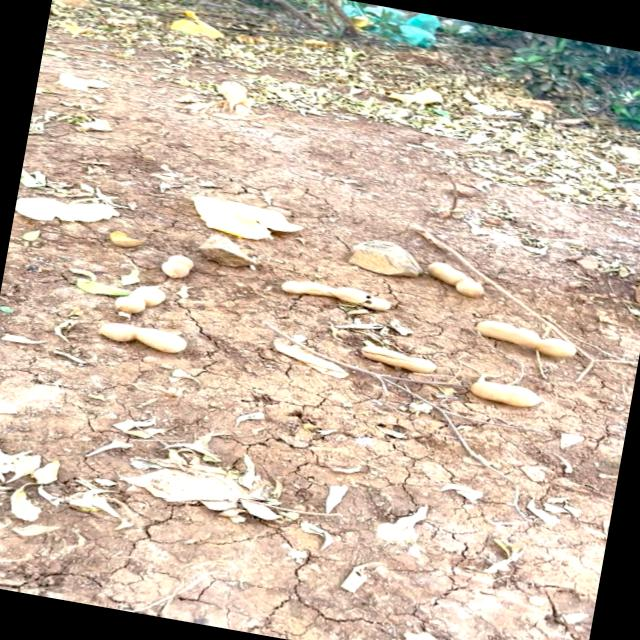tamarind: (470, 312, 590, 363), (270, 272, 398, 312), (96, 313, 194, 356), (355, 338, 448, 378), (418, 258, 492, 300), (462, 377, 548, 410), (112, 275, 173, 320), (160, 248, 197, 282)
